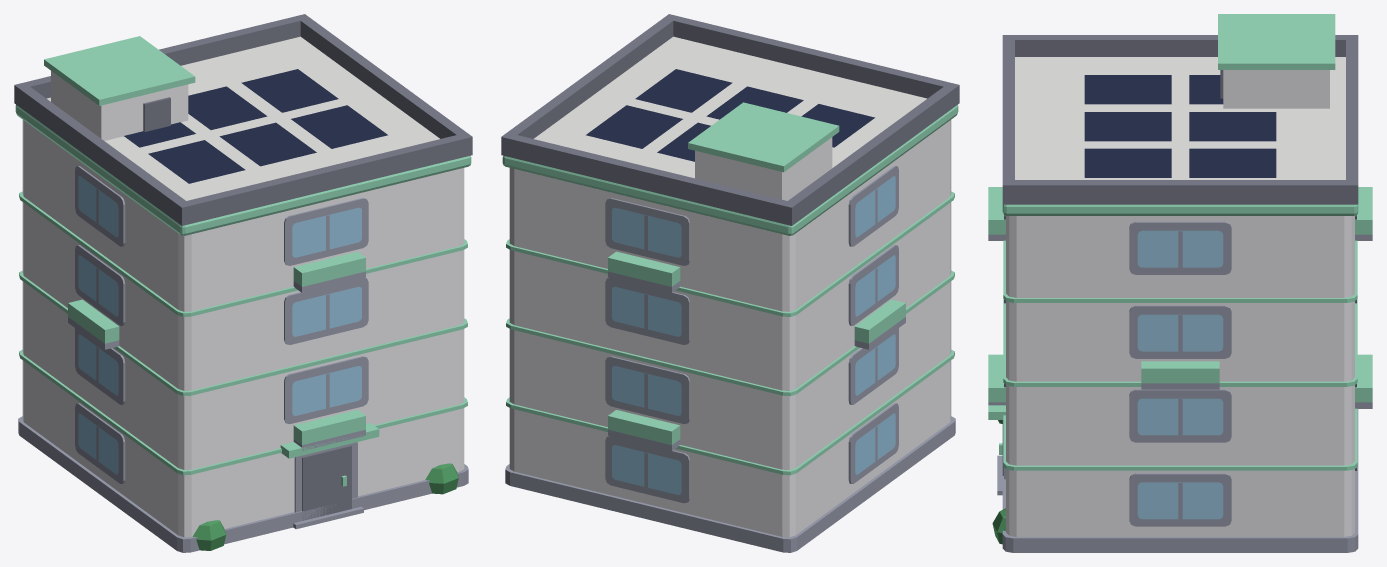
The model's file is tower-1x1-4f-tone-a-solar.glb.
3 renders of one model, left to right at view 1: azimuth 30°, elevation 25°; view 2: azimuth 150°, elevation 25°; view 3: azimuth 270°, elevation 25°, orthographic. The views are drawn at different scales.
Visible parts, largest first — view 1: tower-1x1-4f-tone-a-solar; view 2: tower-1x1-4f-tone-a-solar; view 3: tower-1x1-4f-tone-a-solar.
Part boxes in pixels (x1=…): tower-1x1-4f-tone-a-solar: x1=14, y1=14, x2=472, y2=552; tower-1x1-4f-tone-a-solar: x1=501, y1=14, x2=959, y2=552; tower-1x1-4f-tone-a-solar: x1=988, y1=14, x2=1372, y2=552.
Size of the model in its own units: 1.08 by 1.24 by 1.08.
1 material, 1 textured.
